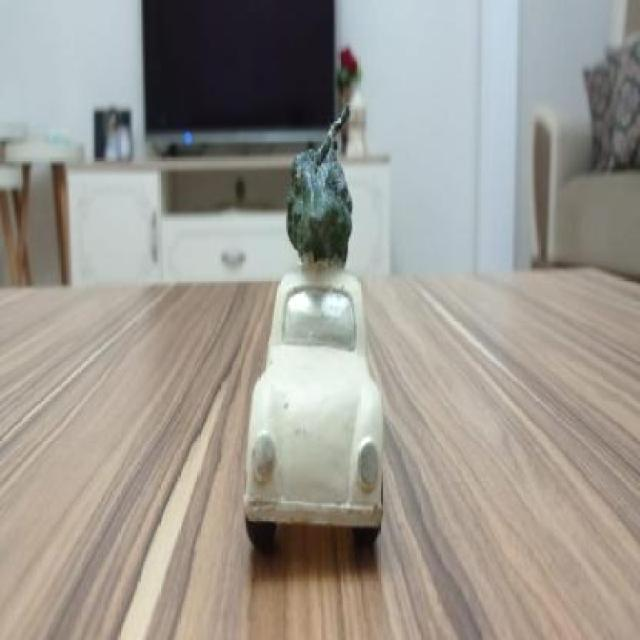car: (250, 274, 386, 554)
